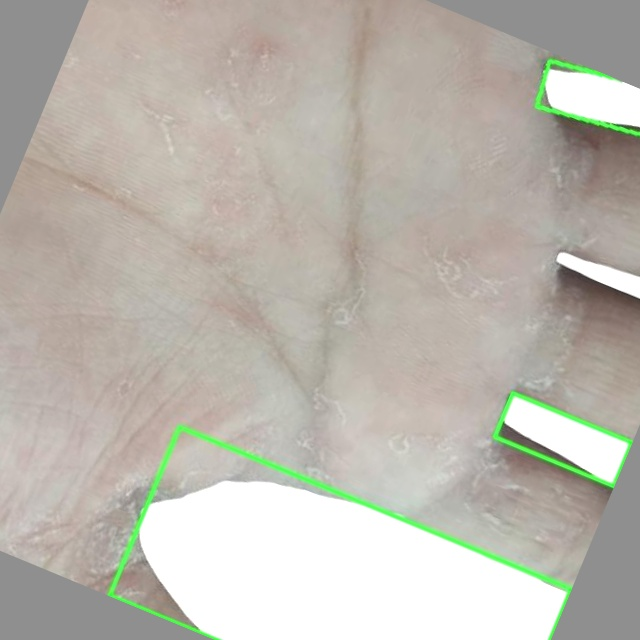Scabies: (109, 427, 570, 639), (494, 393, 631, 486)
